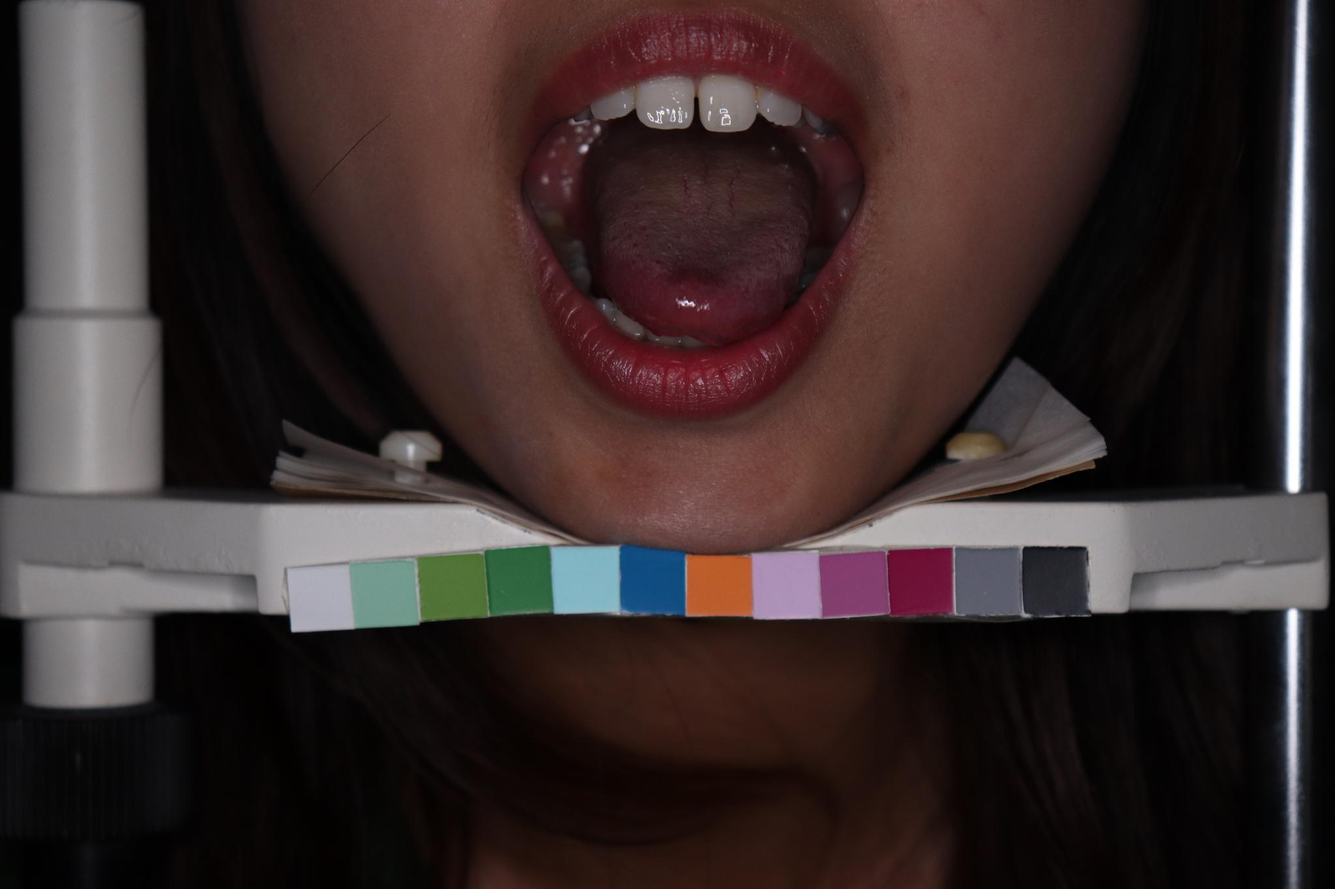baitaishe: (595, 145, 814, 343)
